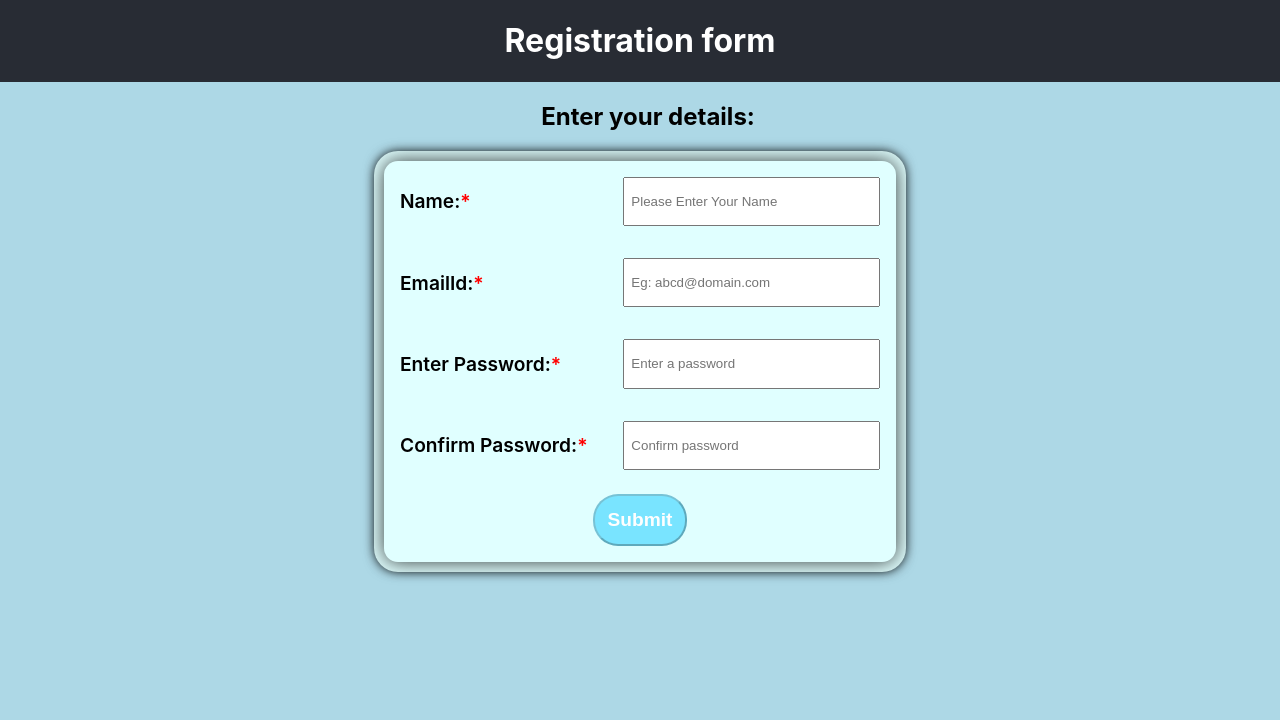
Test: displays error message for invalid password
Type "John Doe" into the field labelled "Name:". click: coordinates (751, 201)
box: [623, 177, 880, 226]
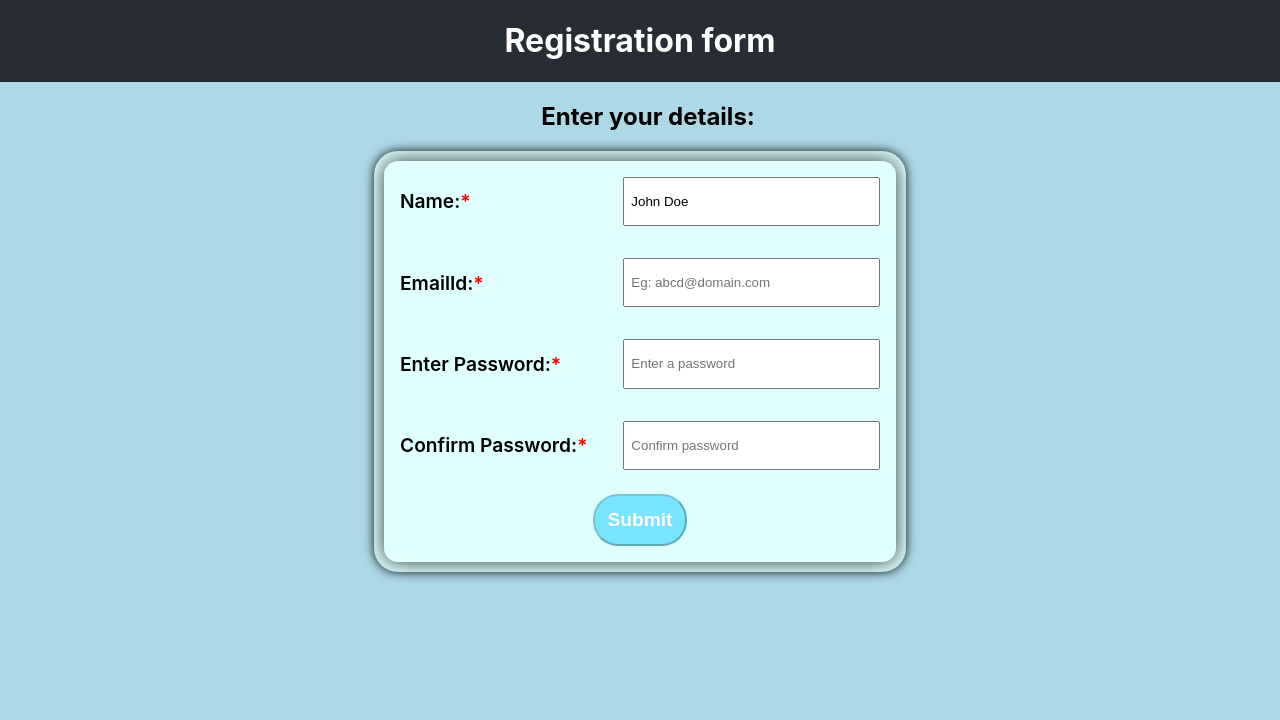
Type "abc@abc.com" into the field labelled "EmailId:". click: coordinates (751, 283)
box: [623, 258, 880, 307]
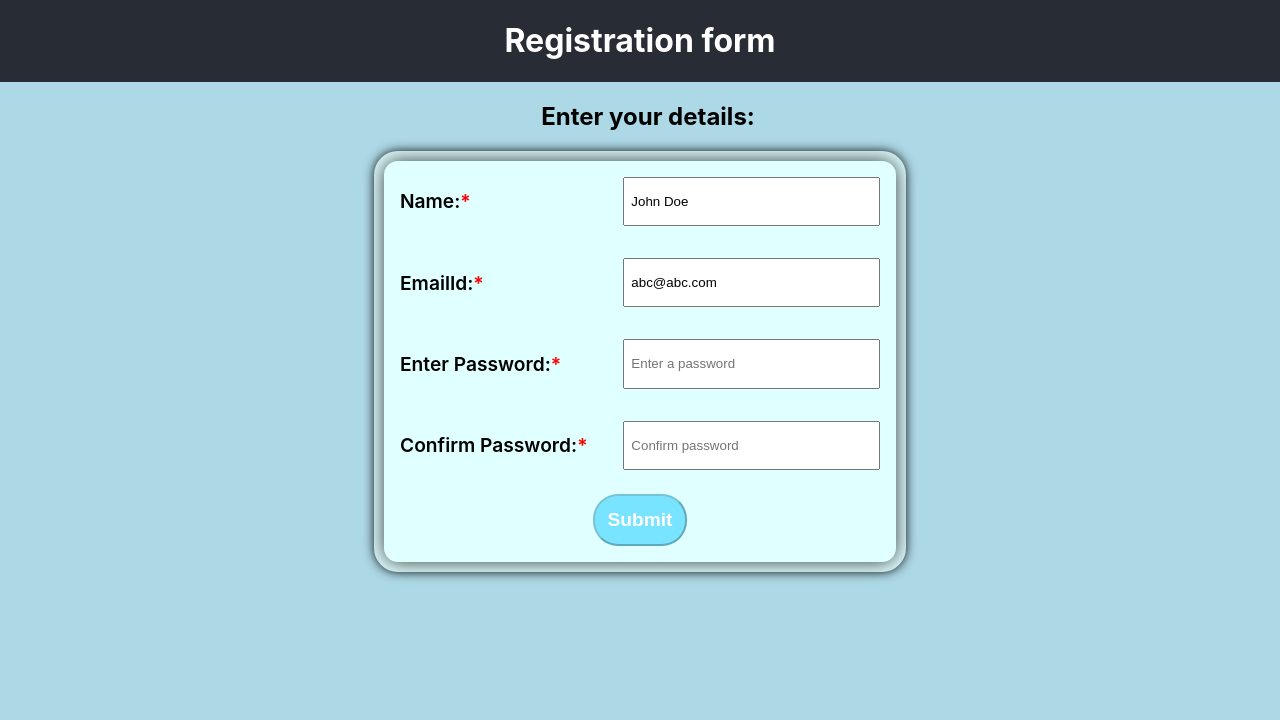
Type "123" into the password field labelled "Enter Password:". click: coordinates (751, 364)
box: [623, 339, 880, 389]
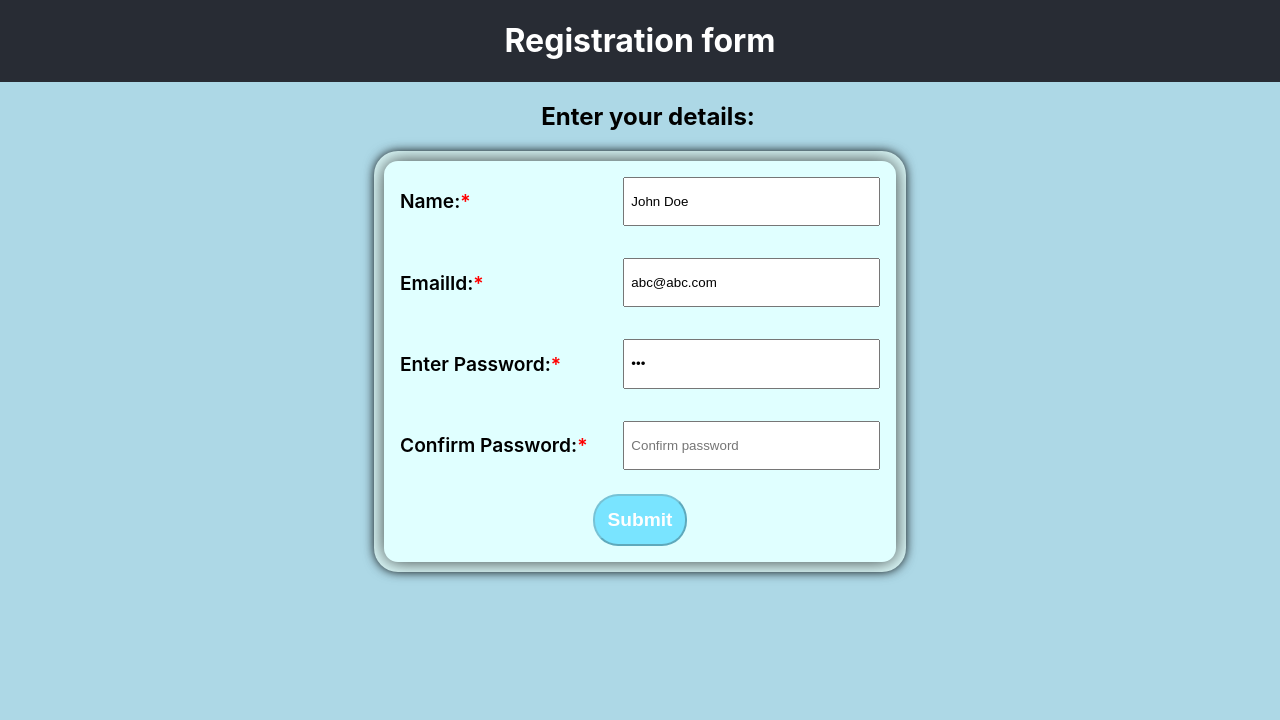
Type "123" into the password field labelled "Confirm Password:". click: coordinates (751, 445)
box: [623, 421, 880, 470]
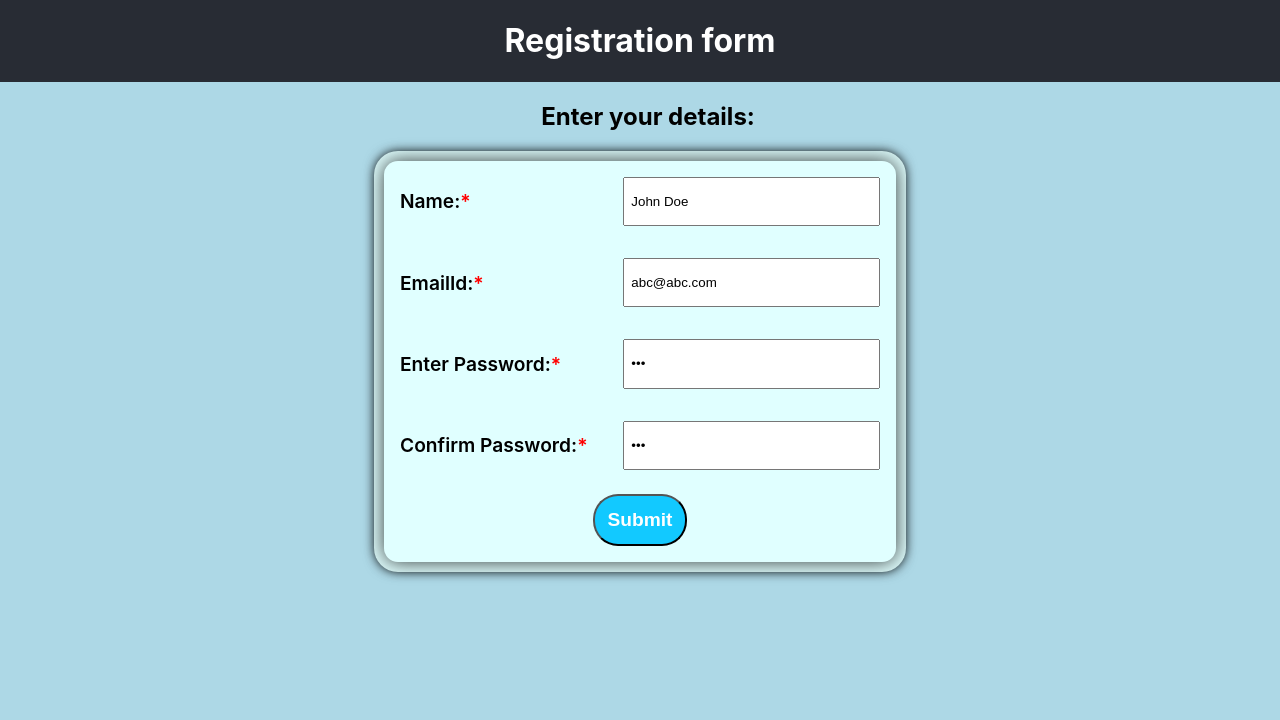
Click the button "Submit". click: coordinates (640, 520)
box: [593, 494, 687, 546]
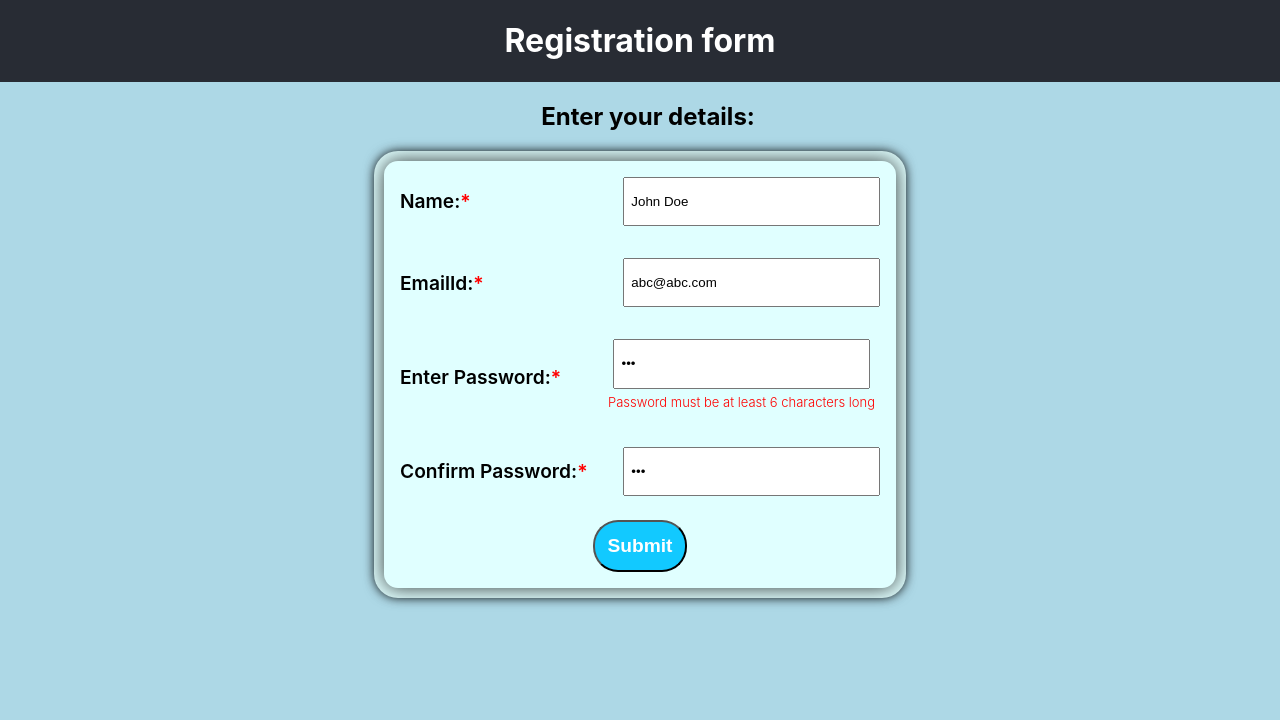
Check: the text "Password must be at least 6 characters long" is shown, box [608, 394, 875, 410]
